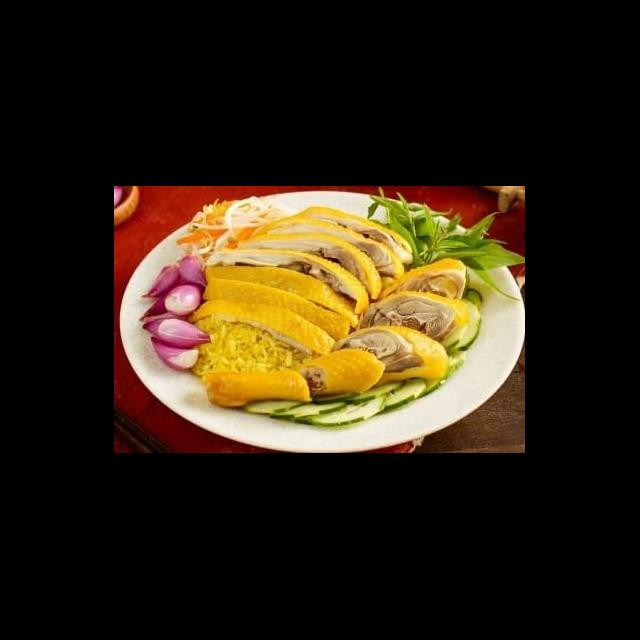com: (188, 314, 316, 379)
com ga: (140, 211, 526, 454)
rau ram: (364, 188, 526, 274)
thit ga: (206, 230, 384, 318), (248, 205, 418, 292), (183, 274, 354, 358), (351, 287, 472, 353), (328, 323, 450, 388), (374, 255, 471, 312), (294, 344, 388, 402), (200, 366, 316, 410)
